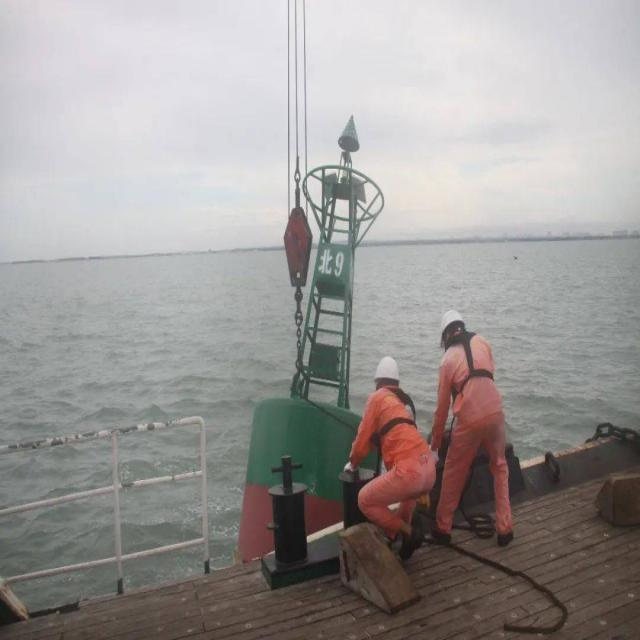buoy: (236, 105, 387, 560)
